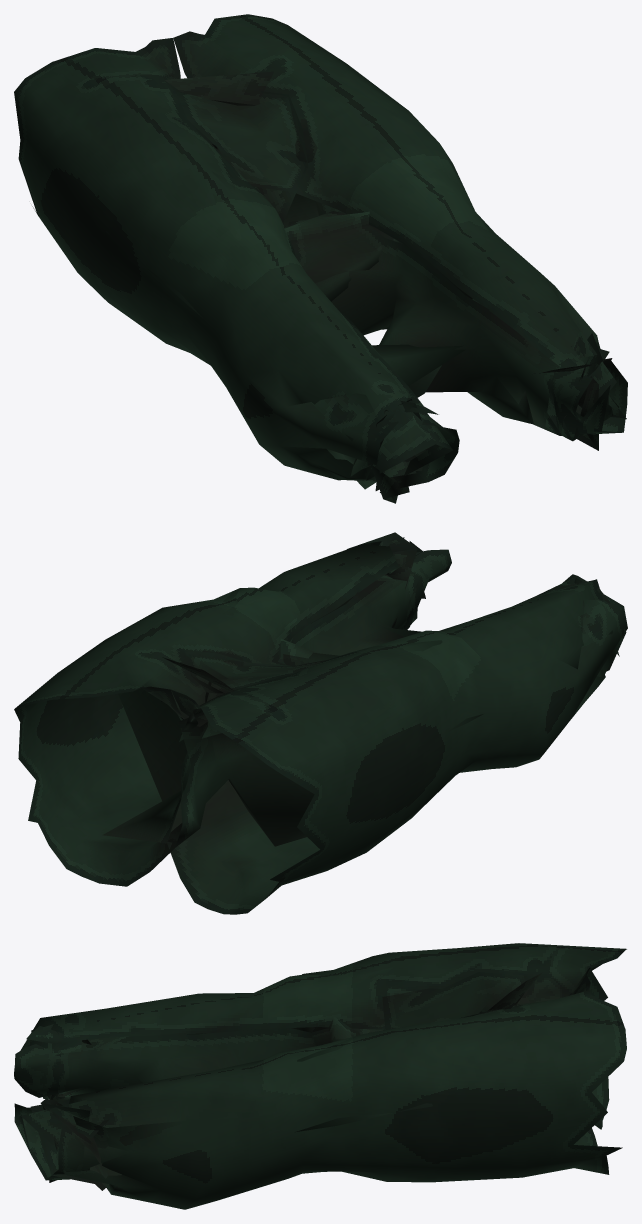
The model's file is jambieres_verre.glb.
3 views of the same model, one above another, from view 1: azimuth 30°, elevation 25°; view 2: azimuth 150°, elevation 25°; view 3: azimuth 270°, elevation 25° (orthographic). The views are drawn at different scales.
Visible parts, largest first — view 1: jambieres_verre; view 2: jambieres_verre; view 3: jambieres_verre.
Boxes of the visible parts, x1,y1,x2,y2 form: jambieres_verre: (14, 14, 627, 503); jambieres_verre: (14, 532, 627, 914); jambieres_verre: (14, 943, 626, 1209).
Bounding box in the file's own units: 0.4172 × 0.2747 × 0.8251.
Materials: 1 (1 with a texture image).
